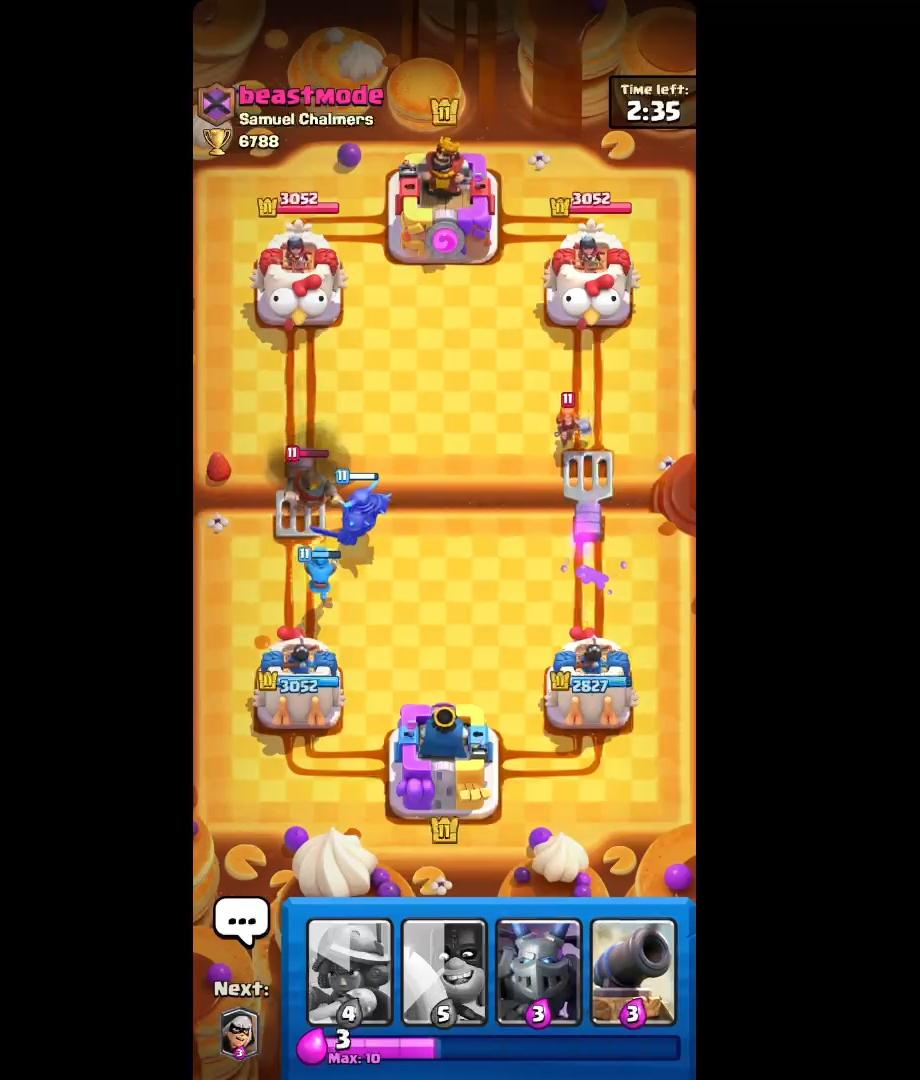Knight: (283, 447, 334, 505)
Valkyrie: (553, 393, 592, 455)
